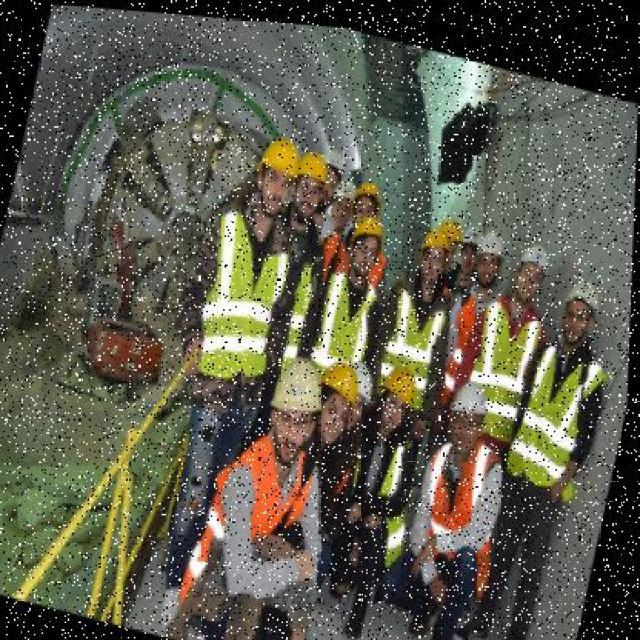helmet: (268, 343, 335, 425), (251, 125, 309, 195), (314, 348, 370, 419), (556, 263, 610, 329), (374, 351, 428, 415), (448, 366, 499, 428), (346, 202, 396, 262), (512, 228, 556, 286), (413, 214, 456, 269), (294, 140, 334, 190), (474, 214, 512, 262)
vest: (194, 211, 299, 383), (515, 337, 597, 494), (470, 293, 544, 416), (314, 263, 384, 366), (385, 282, 453, 374)
